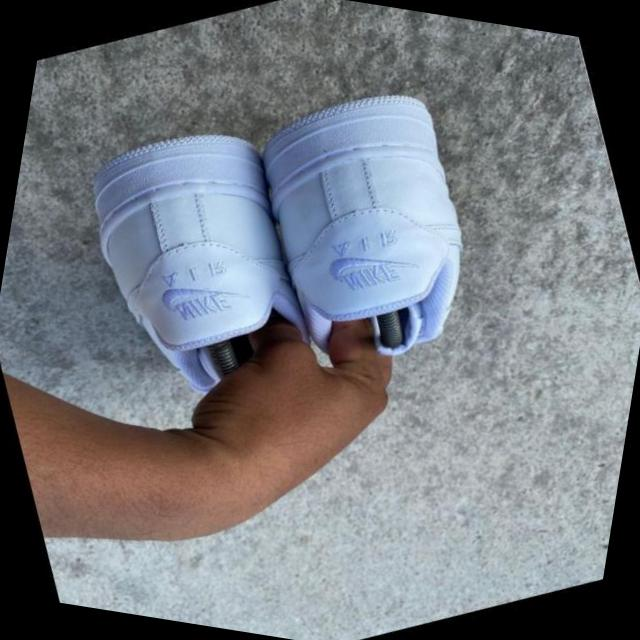nike_original_airforce: (37, 87, 356, 450), (217, 54, 533, 402)
